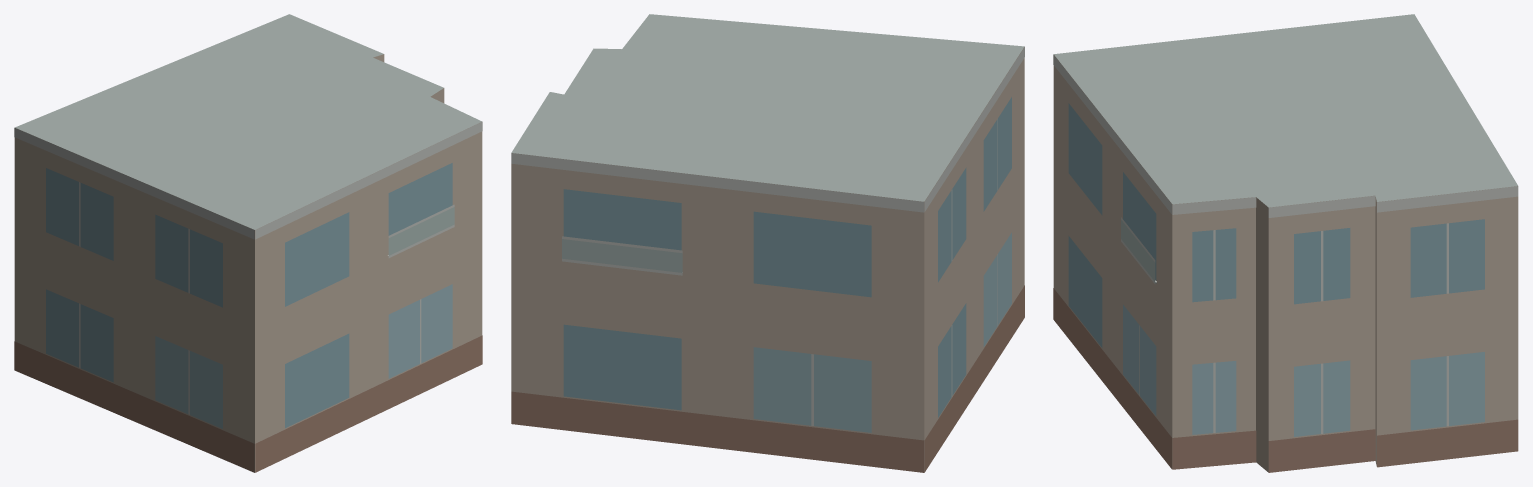
Rendered from survey-upis-32735931.glb.
3 renders of one model, left to right at view 1: azimuth 30°, elevation 25°; view 2: azimuth 150°, elevation 25°; view 3: azimuth 270°, elevation 25°, orthographic. The views are drawn at different scales.
Visible parts, largest first — view 1: survey-upis-32735931.tmp; view 2: survey-upis-32735931.tmp; view 3: survey-upis-32735931.tmp.
Boxes of the visible parts, bbox=[...] form: survey-upis-32735931.tmp: bbox=[14, 14, 482, 472]; survey-upis-32735931.tmp: bbox=[511, 14, 1024, 472]; survey-upis-32735931.tmp: bbox=[1053, 14, 1518, 472].
Size of the model in its own units: 9.55 by 6.1 by 9.7.
